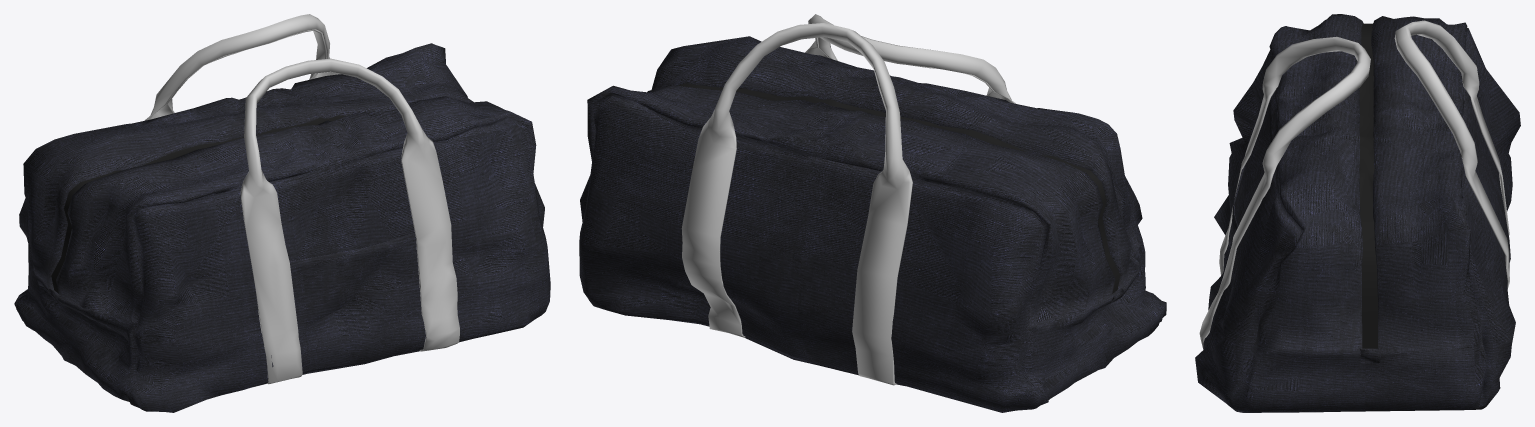
File: Bag.FBX
3 renders of one model, left to right at view 1: azimuth 30°, elevation 25°; view 2: azimuth 150°, elevation 25°; view 3: azimuth 270°, elevation 25°, orthographic. The views are drawn at different scales.
Visible parts, largest first — view 1: bag; view 2: bag; view 3: bag.
Part boxes in pixels (x1,y1,x2,y2): bag: (14,14,550,412); bag: (579,14,1166,412); bag: (1195,14,1520,412).
Bounding box in the file's own units: 53.59 × 31.84 × 32.36.
